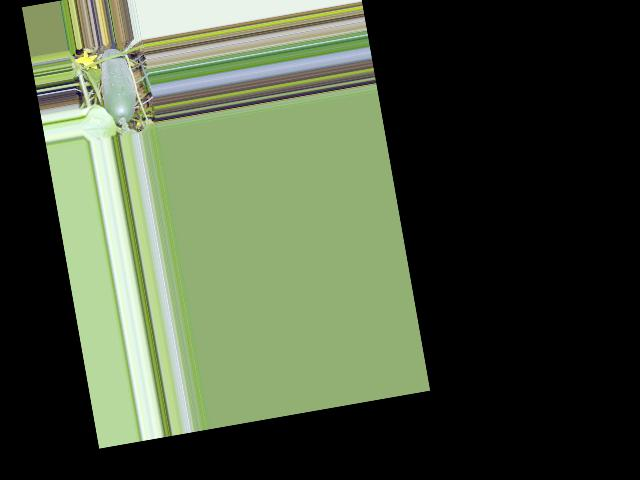cucumber: (95, 46, 140, 127)
